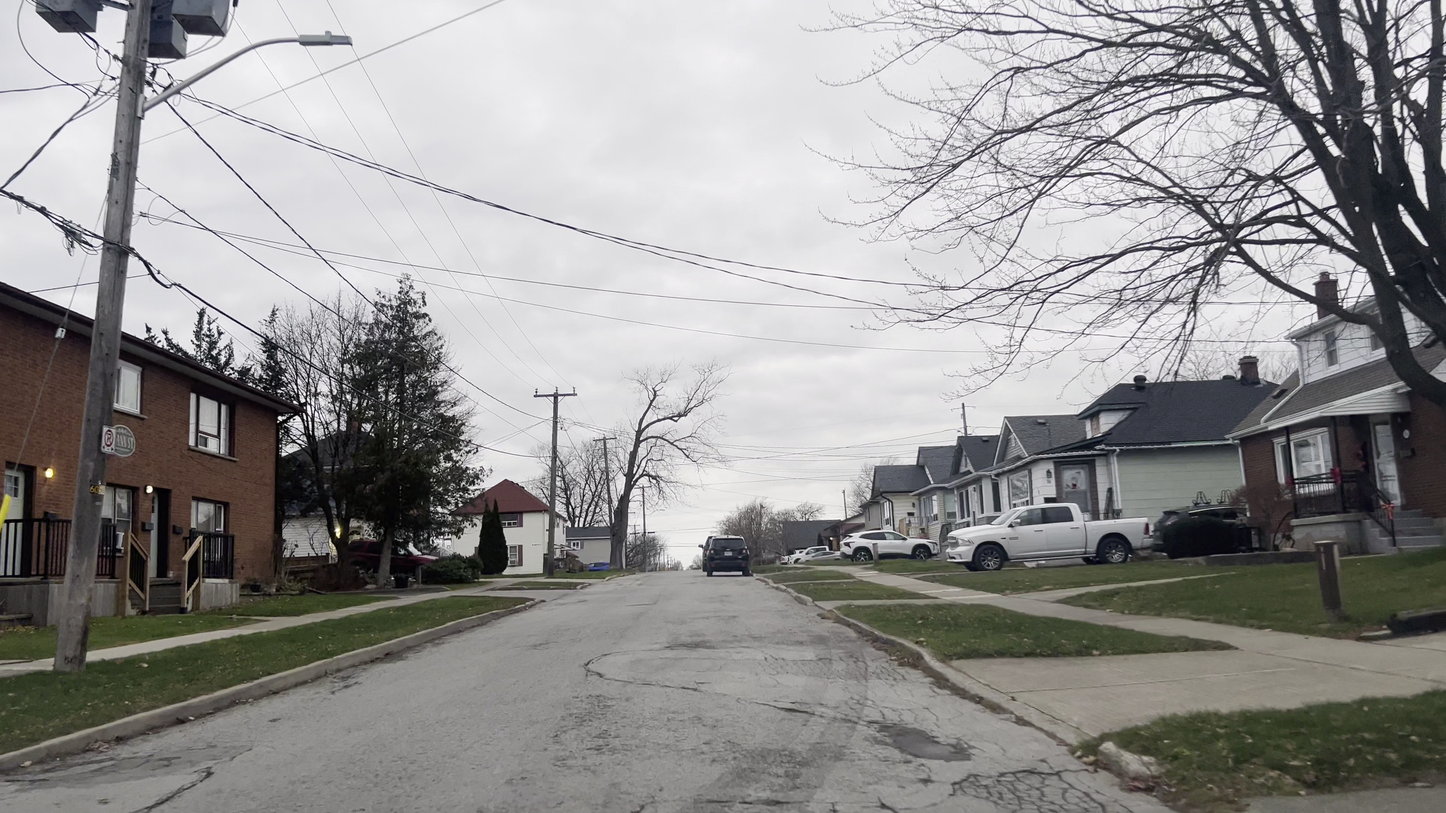cracks: (115, 753, 281, 813), (849, 694, 977, 770), (678, 773, 920, 813), (948, 758, 1086, 813), (561, 641, 654, 690), (763, 689, 836, 738), (655, 625, 728, 659)
